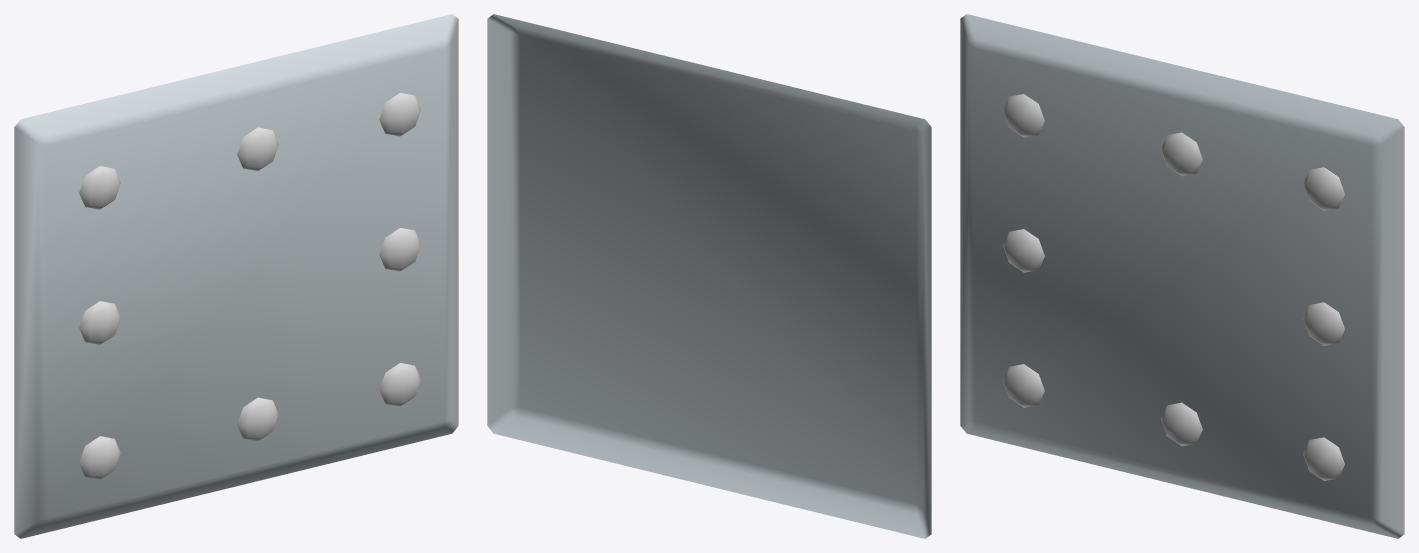
The model's file is wallplate_002.fbx.
3 renders of one model, left to right at view 1: azimuth 30°, elevation 25°; view 2: azimuth 150°, elevation 25°; view 3: azimuth 330°, elevation 25°, orthographic.
Parts seen in each view (by area): view 1: wallplate_002; view 2: wallplate_002; view 3: wallplate_002.
Part boxes in pixels (x1,y1,x2,y2): wallplate_002: (14,14,458,538); wallplate_002: (487,14,931,538); wallplate_002: (960,14,1404,538).
Bounding box in the file's own units: 1363 × 86.99 × 1230.
